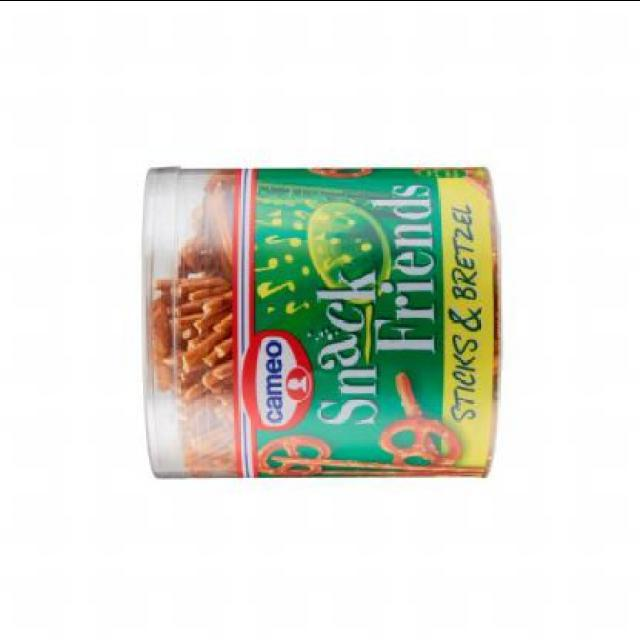Salatini: (139, 149, 507, 491)
